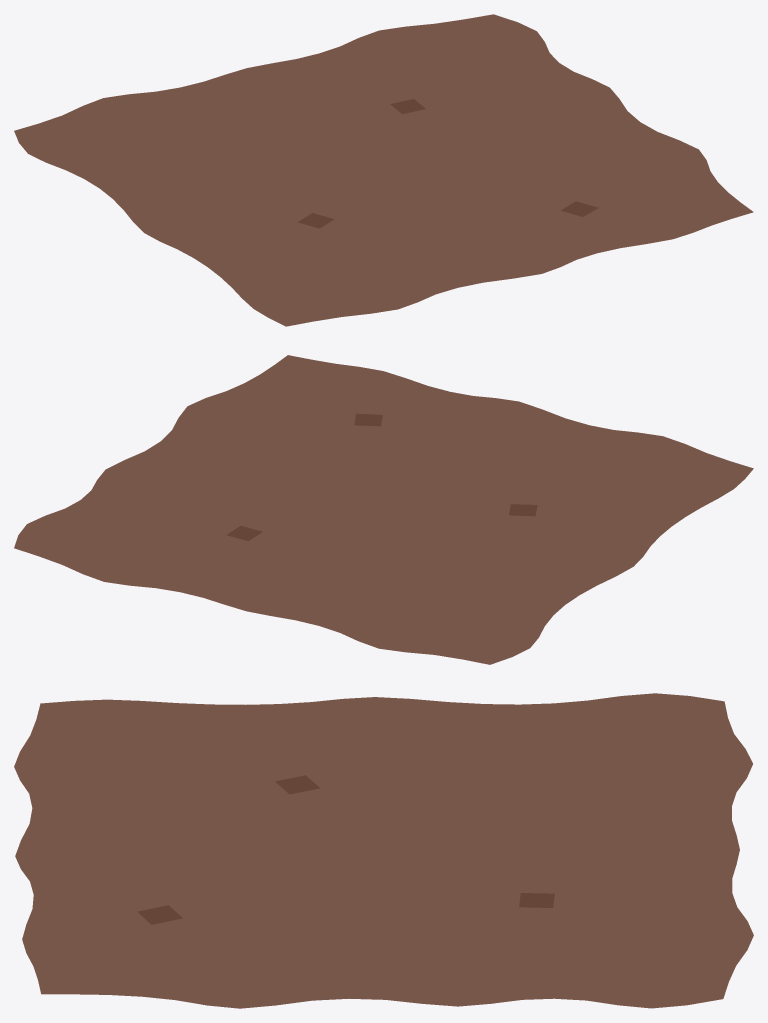
The model's file is PathTile.fbx.
3 renders of one model, top to bottom at view 1: azimuth 30°, elevation 25°; view 2: azimuth 150°, elevation 25°; view 3: azimuth 270°, elevation 25°, orthographic. The views are drawn at different scales.
Visible parts, largest first — view 1: PathTile; view 2: PathTile; view 3: PathTile.
Boxes of the visible parts, x1,y1,x2,y2 form: PathTile: [14, 14, 753, 326]; PathTile: [14, 355, 753, 664]; PathTile: [14, 693, 753, 1008].
Bounding box in the file's own units: 109 × 0 × 108.
